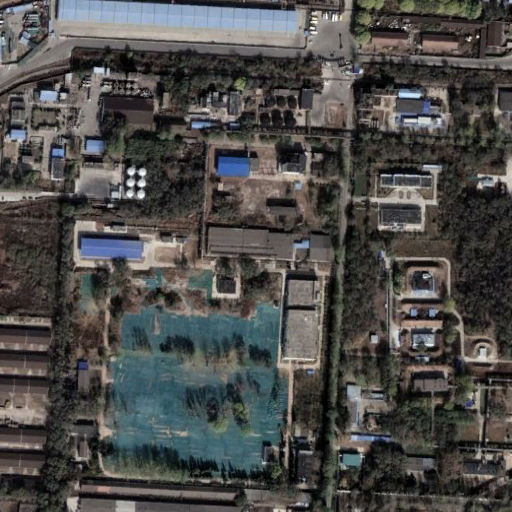cw: (79, 267, 289, 474)
